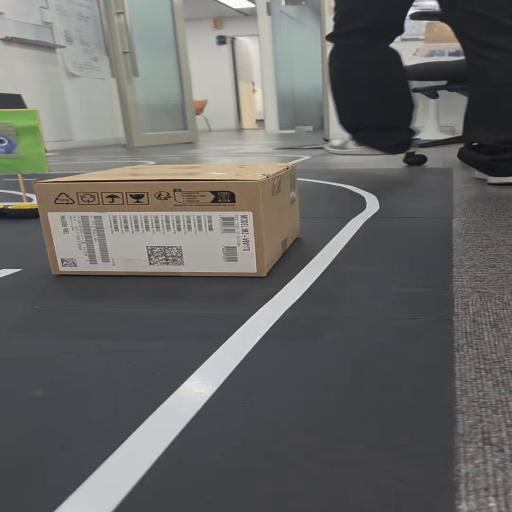Box: (28, 162, 316, 281)
